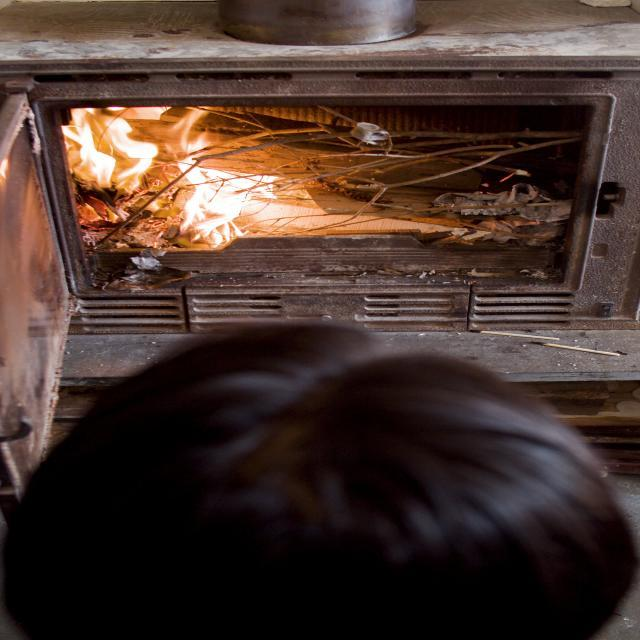Fire: (57, 104, 320, 243)
